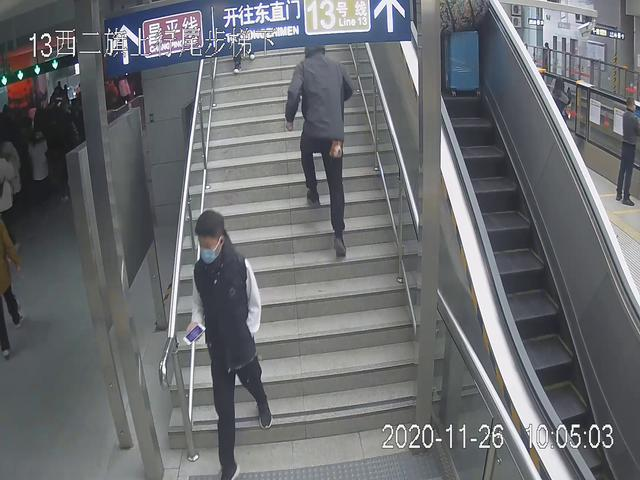person: (186, 208, 275, 479), (281, 40, 358, 263)
